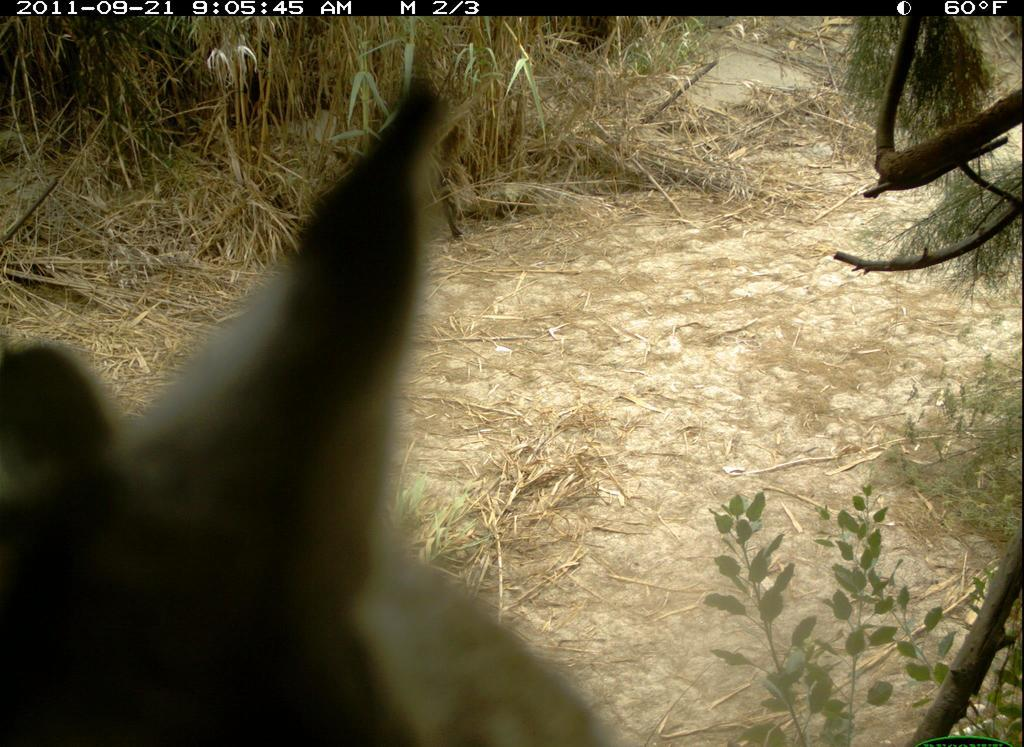bobcat: (2, 54, 657, 747)
